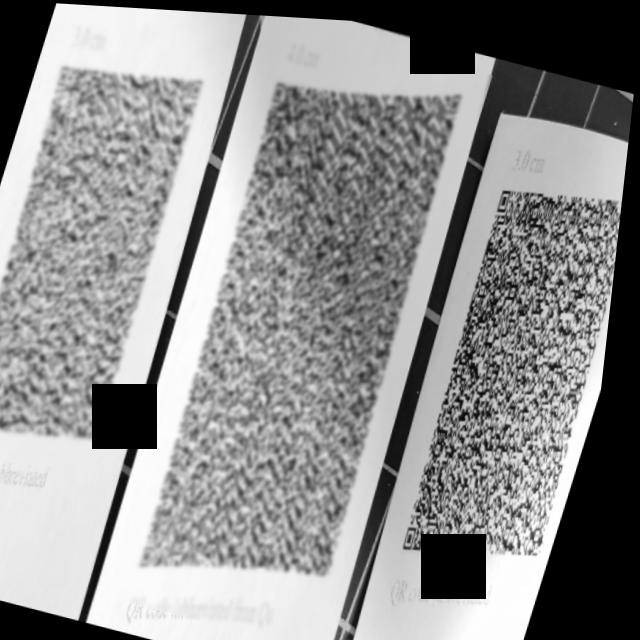QR_CODE: (118, 13, 498, 640), (380, 131, 630, 640), (0, 0, 234, 484)
